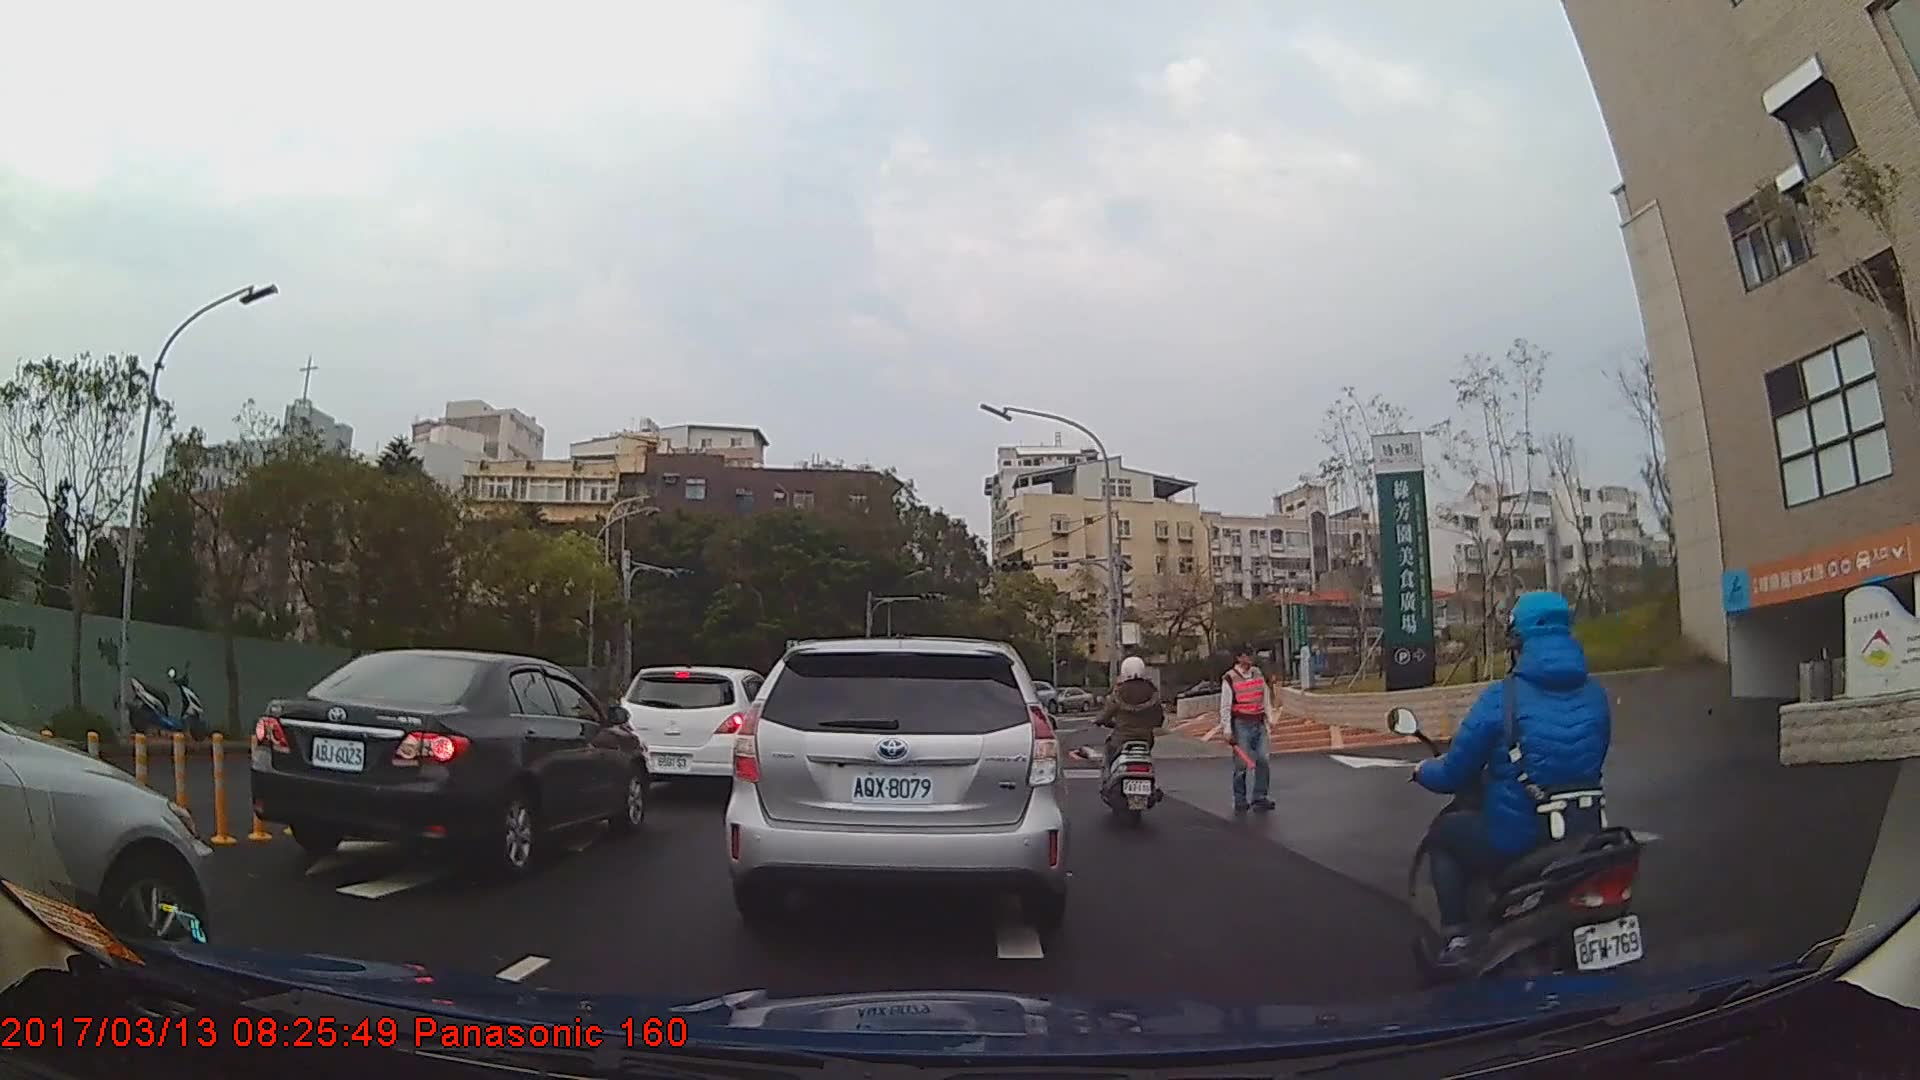pedestrian: (1215, 639, 1277, 810)
rider: (1397, 589, 1647, 1021), (1101, 658, 1172, 833)
vehicle: (725, 634, 1072, 930), (250, 647, 650, 877), (613, 665, 779, 800), (1054, 684, 1094, 713)
